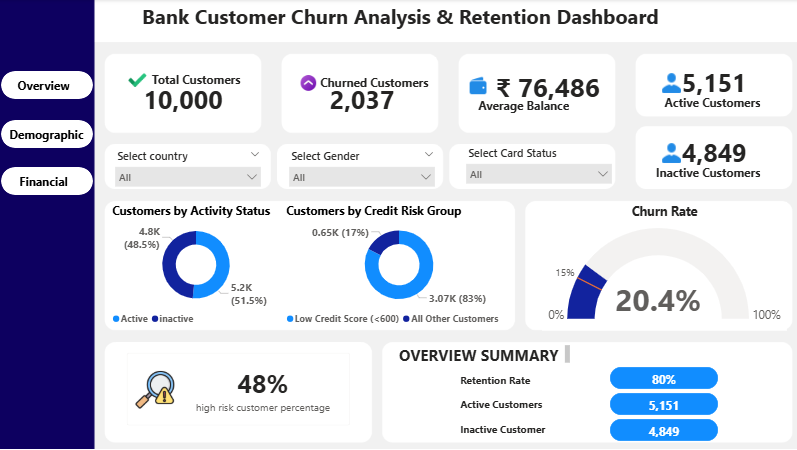

This screenshot's page, from the dashboard's own definition file:
{"tool":"powerbi","page":{"name":"Overview","canvas":[1280,720],"ordinal":0},"visuals":[{"type":"textbox","box":[206,0,868,68],"z":0},{"type":"textbox","box":[730,591.7,185,48.3],"z":0,"group":"g6"},{"type":"card","title":"Total Customers","fields":{"Values":["Measures (2).Customers"]},"box":[176,92,236,114],"z":1000,"group":"g1"},{"type":"card","title":"Total Customers","fields":{"Values":["Measures (2).customer lost"]},"box":[460,92,236,114],"z":1000,"group":"g2"},{"type":"actionButton","box":[3.2,114.7,146.5,44.6],"z":1000},{"type":"textbox","box":[730,630,206.7,41.7],"z":1000,"group":"g6"},{"type":"group","id":"g1","title":"Group 1","box":[176,92,236,114],"z":2000},{"type":"textbox","box":[190,110,200,40],"z":2000,"group":"g1"},{"type":"textbox","box":[464,114,224,38],"z":2000,"group":"g2"},{"type":"textbox","box":[730,670,218.3,45],"z":2000,"group":"g6"},{"type":"group","id":"g2","title":"Group 1","box":[460,92,236,114],"z":3000},{"type":"card","title":"Total Customers","fields":{"Values":["Measures (2).Avg_Balance"]},"box":[747.1,107.1,234,86],"z":3000,"group":"g3"},{"type":"image","box":[206,110,30,38],"z":3000,"group":"g1"},{"type":"image","box":[478,114,30,38],"z":3000,"group":"g2"},{"type":"card","fields":{"Values":["Measures (2).Retention Rate"]},"box":[973.3,586.7,171.7,35],"z":3000,"group":"g6"},{"type":"actionButton","box":[3.2,267.6,146.5,44.6],"z":4000},{"type":"card","fields":{"Values":["Measures (2).active cutomer"]},"box":[973.3,628.4,171.7,35],"z":4000,"group":"g6"},{"type":"textbox","box":[1020,146.5,198.3,36.7],"z":5000,"group":"g5"},{"type":"textbox","box":[747.1,151.1,166,42],"z":5000,"group":"g3"},{"type":"textbox","box":[1019.5,258.7,198.3,36.7],"z":5000,"group":"g4"},{"type":"gauge","title":"Churn Rate","fields":{"Y":["Measures (2).Churn Rate"],"MinValue":["Measures (2).min_churn_rate"],"MaxValue":["Measures (2).max_churn_rate"],"TargetValue":["Measures (2).target_churn_rate"]},"box":[865,323.4,390.3,205.5],"z":5000},{"type":"card","fields":{"Values":["Measures (2).inactive cutomer"]},"box":[973.3,670,171.7,35],"z":5000,"group":"g6"},{"type":"image","box":[1051.7,106,39.7,56],"z":6000,"group":"g5"},{"type":"image","box":[747.1,109.1,32,60],"z":6000,"group":"g3"},{"type":"image","box":[1051.2,218.2,39.7,56],"z":6000,"group":"g4"},{"type":"slicer","fields":{"Values":["Dim_Location.country"]},"box":[176,232,252,78],"z":6000},{"type":"slicer","fields":{"Values":["Dim_Gender.gender"]},"box":[452,232,252,78],"z":7000},{"type":"slicer","fields":{"Values":["Fact_Customer Data.credit_card_status"]},"box":[734,228,252,78],"z":8000},{"type":"donutChart","fields":{"Y":["Measures (2).Customers"],"Category":["Dim_Credit Score Range.Credit Risk Group"]},"box":[452.4,323.4,369.6,205.5],"z":9000},{"type":"donutChart","title":"Customers by Activity Status","fields":{"Y":["Measures (2).Customers"],"Category":["Fact_Customer Data.Activity_Status"]},"box":[175.2,323.4,277.2,205.5],"z":10000},{"type":"card","fields":{"Values":["Measures (2).active cutomer"]},"box":[1040,91.7,198.3,91.7],"z":11000,"group":"g5"},{"type":"group","id":"g3","title":"Group 3","box":[747.1,107.1,234.3,85.7],"z":11000},{"type":"card","fields":{"Values":["Measures (2).inactive cutomer"]},"box":[1039.5,203.9,198.3,91.7],"z":11000,"group":"g4"},{"type":"cardVisual","fields":{"Data":["Measures (2).high risk customer percentage"]},"box":[186.7,546.7,390,150],"z":12000},{"type":"group","id":"g4","title":"Group 2","box":[1019.5,203.9,218.2,90.8],"z":13000},{"type":"group","id":"g5","title":"Group 2","box":[1020,91.7,218.3,91.7],"z":14000},{"type":"textbox","box":[631.7,546.7,281.7,40],"z":15000},{"type":"group","id":"g6","title":"Group 4","box":[730,586.7,415,128.3],"z":16000},{"type":"actionButton","box":[3.2,192.7,146.5,44.6],"z":17000}]}

Visuals, with their boxes in screenshot pixels (x1, y1, x2, y2), scaled from the page's 1280x720 canvas onto the 797x450 screenshot:
textbox: pyautogui.locateOnScreen(128, 0, 669, 42)
textbox: pyautogui.locateOnScreen(455, 370, 570, 400)
"Total Customers" card: pyautogui.locateOnScreen(110, 58, 257, 129)
"Total Customers" card: pyautogui.locateOnScreen(286, 58, 433, 129)
actionButton: pyautogui.locateOnScreen(2, 72, 93, 100)
textbox: pyautogui.locateOnScreen(455, 394, 583, 420)
"Group 1" group: pyautogui.locateOnScreen(110, 58, 257, 129)
textbox: pyautogui.locateOnScreen(118, 69, 243, 94)
textbox: pyautogui.locateOnScreen(289, 71, 428, 95)
textbox: pyautogui.locateOnScreen(455, 419, 590, 447)
"Group 1" group: pyautogui.locateOnScreen(286, 58, 433, 129)
"Total Customers" card: pyautogui.locateOnScreen(465, 67, 611, 121)
image: pyautogui.locateOnScreen(128, 69, 147, 92)
image: pyautogui.locateOnScreen(298, 71, 316, 95)
card - Measures (2).Retention Rate: pyautogui.locateOnScreen(606, 367, 713, 389)
actionButton: pyautogui.locateOnScreen(2, 167, 93, 195)
card - Measures (2).active cutomer: pyautogui.locateOnScreen(606, 393, 713, 415)
textbox: pyautogui.locateOnScreen(635, 92, 759, 114)
textbox: pyautogui.locateOnScreen(465, 94, 569, 121)
textbox: pyautogui.locateOnScreen(635, 162, 758, 185)
"Churn Rate" gauge: pyautogui.locateOnScreen(539, 202, 782, 331)
card - Measures (2).inactive cutomer: pyautogui.locateOnScreen(606, 419, 713, 441)
image: pyautogui.locateOnScreen(655, 66, 680, 101)
image: pyautogui.locateOnScreen(465, 68, 485, 106)
image: pyautogui.locateOnScreen(655, 136, 679, 171)
slicer - Dim_Location.country: pyautogui.locateOnScreen(110, 145, 266, 194)
slicer - Dim_Gender.gender: pyautogui.locateOnScreen(281, 145, 438, 194)
slicer - Fact_Customer Data.credit_card_status: pyautogui.locateOnScreen(457, 142, 614, 191)
donutChart - Measures (2).Customers x Dim_Credit Score Range.Credit Risk Group: pyautogui.locateOnScreen(282, 202, 512, 331)
"Customers by Activity Status" donutChart: pyautogui.locateOnScreen(109, 202, 282, 331)
card - Measures (2).active cutomer: pyautogui.locateOnScreen(648, 57, 771, 115)
"Group 3" group: pyautogui.locateOnScreen(465, 67, 611, 120)
card - Measures (2).inactive cutomer: pyautogui.locateOnScreen(647, 127, 771, 185)
cardVisual - Measures (2).high risk customer percentage: pyautogui.locateOnScreen(116, 342, 359, 435)
"Group 2" group: pyautogui.locateOnScreen(635, 127, 771, 184)
"Group 2" group: pyautogui.locateOnScreen(635, 57, 771, 115)
textbox: pyautogui.locateOnScreen(393, 342, 569, 367)
"Group 4" group: pyautogui.locateOnScreen(455, 367, 713, 447)
actionButton: pyautogui.locateOnScreen(2, 120, 93, 148)
